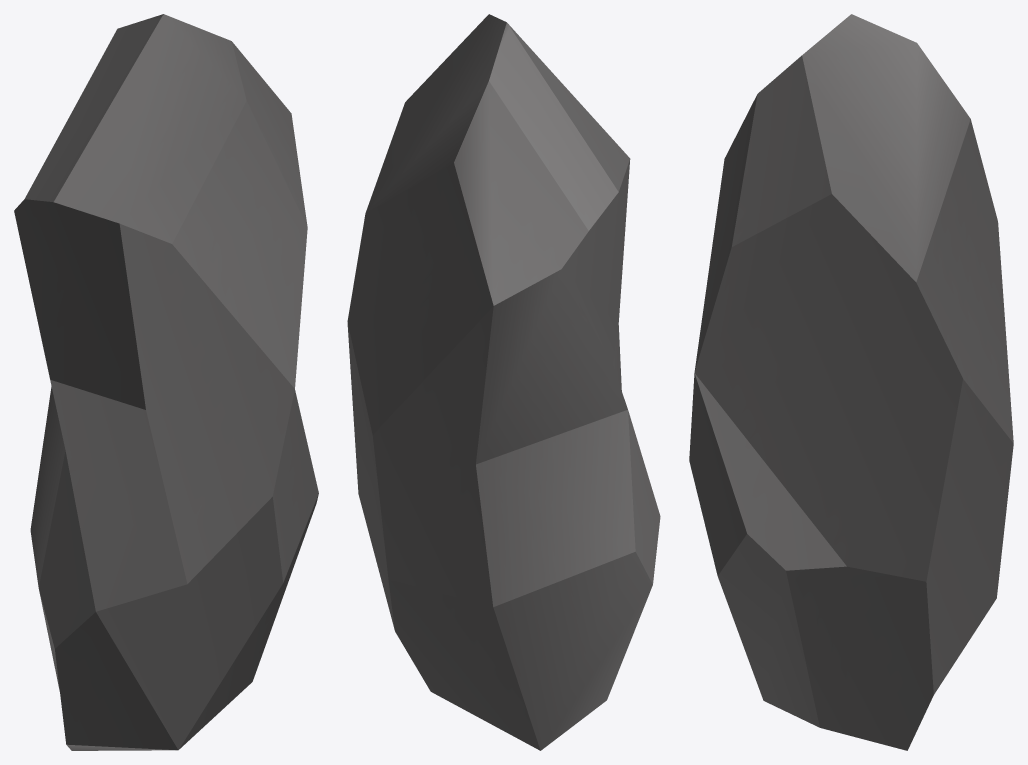
File: menhir-medium.gltf
The picture shows the model from 3 angles, left to right: view 1: azimuth 30°, elevation 25°; view 2: azimuth 150°, elevation 25°; view 3: azimuth 270°, elevation 25°; orthographic projection. The views are drawn at different scales.
Visible parts, largest first — view 1: menhir_moyen; view 2: menhir_moyen; view 3: menhir_moyen.
Boxes of the visible parts, left/top/right/bottom form: menhir_moyen: left=14, top=14, right=318, bottom=750; menhir_moyen: left=347, top=14, right=660, bottom=750; menhir_moyen: left=689, top=14, right=1013, bottom=750.
Size of the model in its own units: 3.25 by 9.1 by 3.59.
1 material, 1 textured.
